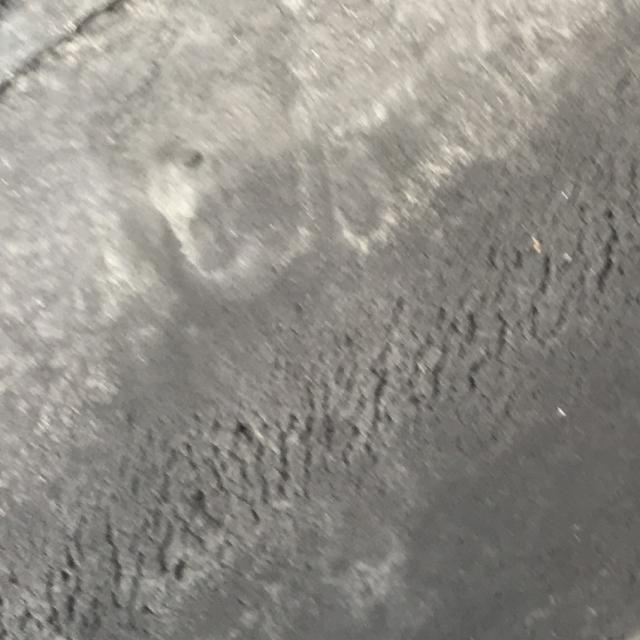Cracks: (0, 104, 639, 639)
